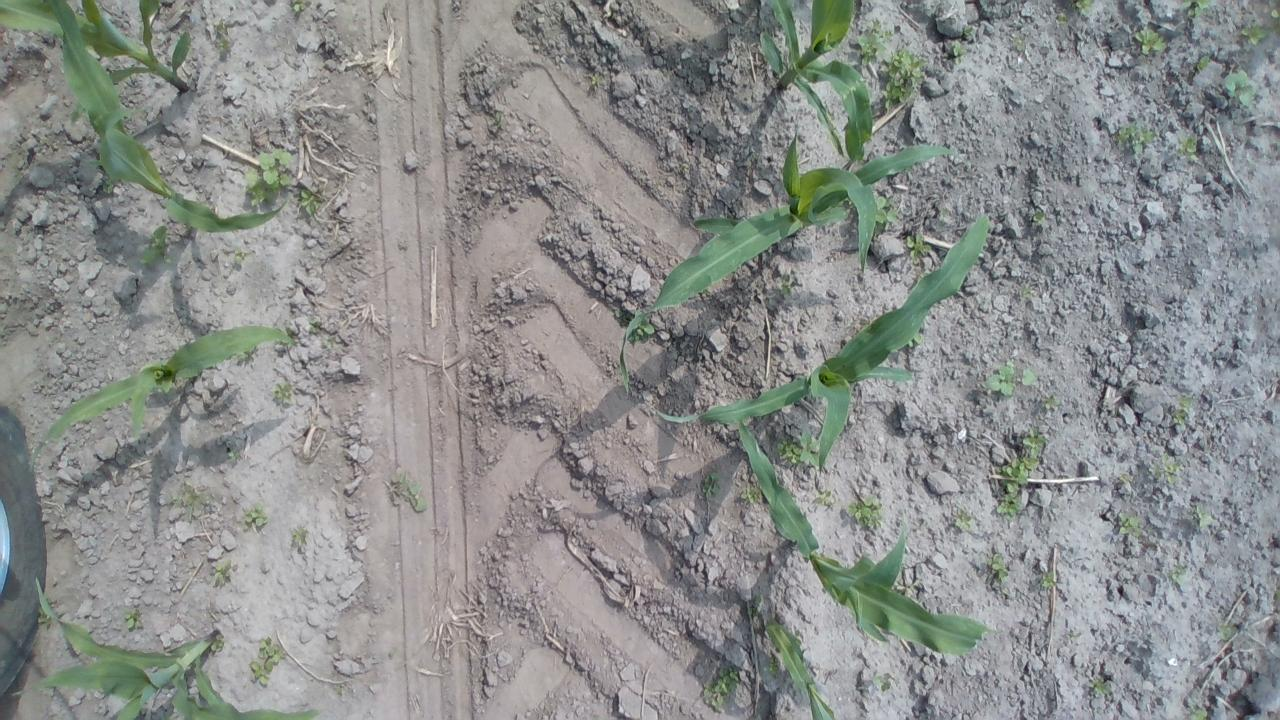Maize: (620, 130, 974, 398), (654, 214, 991, 476), (736, 420, 993, 658), (48, 0, 292, 233), (9, 576, 318, 720), (30, 325, 295, 471), (2, 0, 196, 127), (761, 0, 872, 164), (762, 615, 835, 720)
Weeds: (992, 426, 1046, 520), (242, 146, 294, 209), (882, 47, 926, 107), (984, 360, 1038, 397), (854, 17, 892, 68), (250, 634, 286, 686), (1222, 64, 1262, 110), (164, 480, 207, 522), (701, 664, 738, 711), (1116, 115, 1158, 156), (392, 466, 428, 512), (846, 495, 887, 530), (135, 224, 169, 265), (1145, 452, 1183, 487), (905, 231, 932, 265), (1176, 129, 1200, 166), (800, 426, 819, 468), (1194, 498, 1216, 534), (1136, 29, 1166, 55), (774, 435, 800, 465), (1170, 391, 1191, 428), (985, 551, 1010, 581), (1118, 510, 1144, 538), (213, 18, 232, 56), (240, 503, 266, 530), (1240, 23, 1268, 47), (301, 188, 324, 216), (210, 558, 233, 586), (1167, 562, 1191, 588), (816, 486, 842, 510), (701, 470, 722, 499), (955, 504, 975, 534), (874, 196, 896, 222), (273, 380, 295, 406), (1214, 620, 1238, 643), (946, 40, 968, 65), (871, 671, 898, 691), (613, 308, 642, 326), (1181, 0, 1210, 18), (630, 322, 656, 342), (738, 482, 761, 504), (1086, 676, 1112, 695), (776, 274, 796, 298), (746, 595, 766, 619), (124, 610, 144, 631), (290, 525, 308, 548), (1016, 281, 1034, 303), (1186, 703, 1209, 720), (1069, 0, 1093, 15), (767, 654, 781, 679), (990, 580, 1011, 596), (8, 160, 22, 184), (1269, 3, 1280, 33), (1030, 209, 1048, 226), (1040, 394, 1060, 409), (1041, 570, 1056, 590), (38, 608, 51, 631), (210, 633, 224, 654), (1197, 52, 1211, 72), (308, 318, 322, 336), (1054, 12, 1070, 26), (1066, 626, 1080, 642), (102, 174, 113, 194), (589, 71, 601, 89), (1012, 36, 1024, 53), (323, 335, 336, 350), (290, 0, 306, 12), (236, 352, 252, 364), (332, 684, 347, 696), (234, 248, 245, 264), (228, 449, 240, 462), (493, 111, 502, 126), (1118, 473, 1131, 483), (660, 66, 671, 76), (962, 25, 974, 34), (748, 152, 758, 162), (915, 334, 923, 345), (388, 651, 396, 662), (678, 164, 686, 173), (908, 342, 912, 348)
